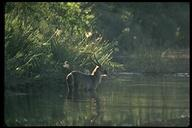antelope: (60, 51, 110, 102)
water: (117, 78, 186, 118)
